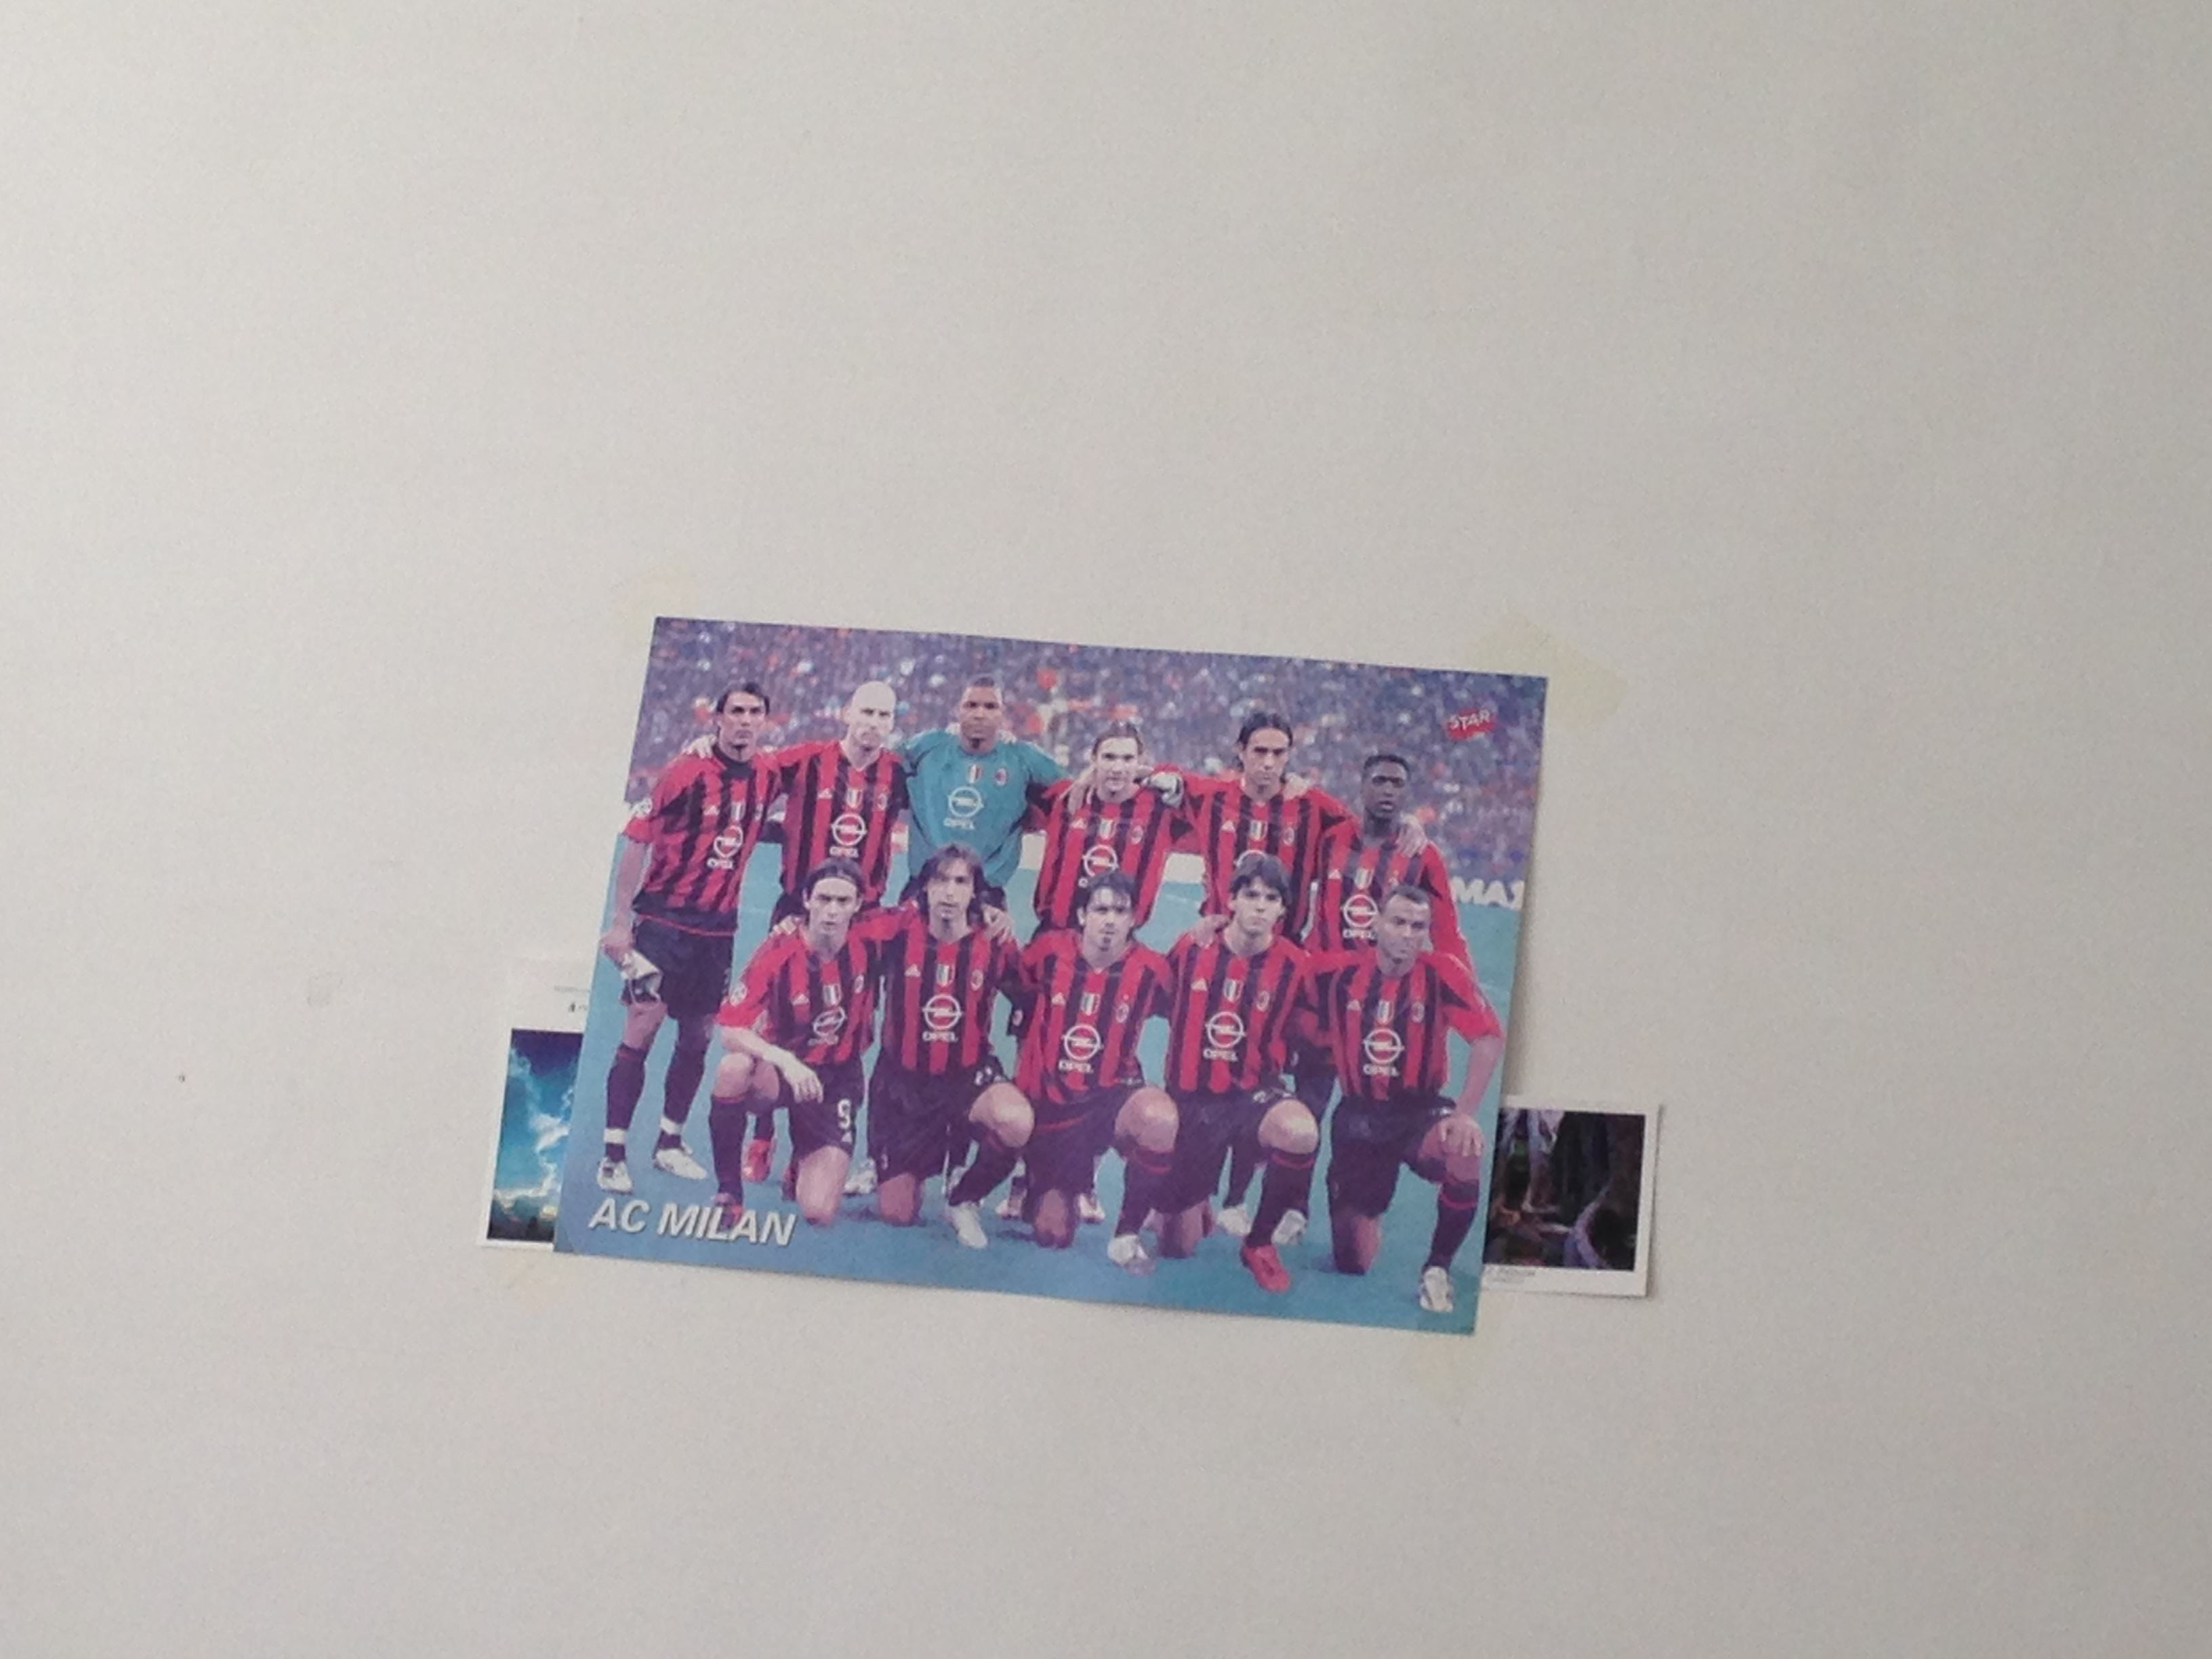bill: (557, 619, 1552, 1344)
